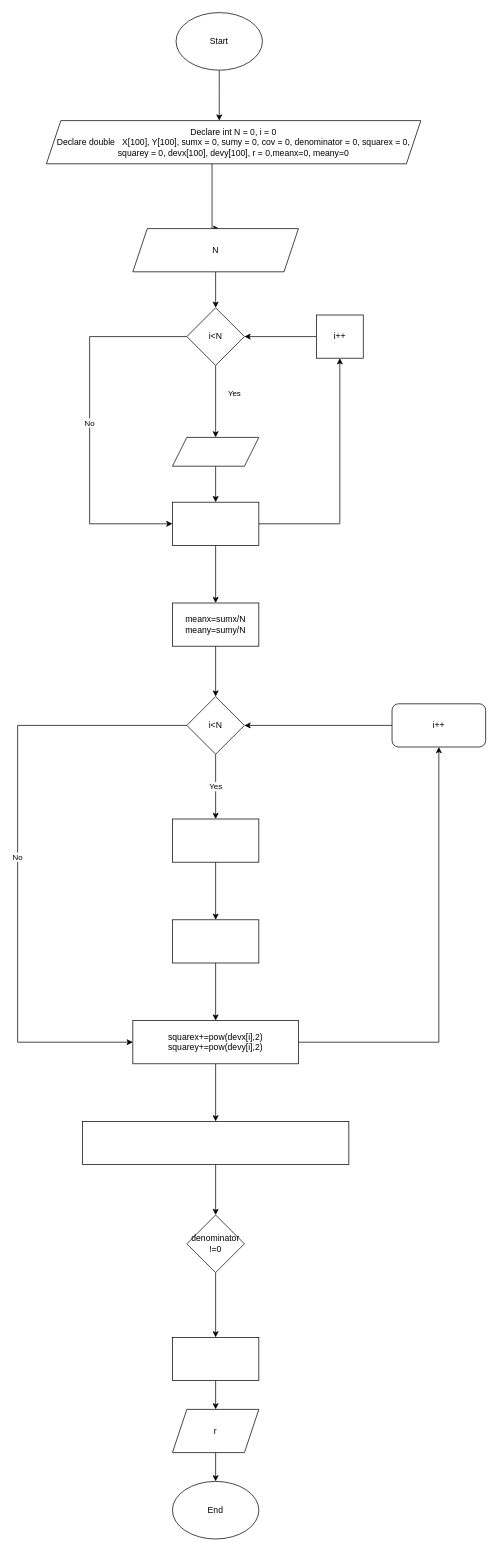
The diagram is 498 pixels wide and 1552 high, and some of its shapes have lost their labels. Each missing label, with the centre of its shape:
"cov+= devx[i] *devy[i]" belongs at pixel 215 941.
"denominator=sqrt(squarex*squarey)" belongs at pixel 215 1143.
"devx[i]=X[i]-meanx devy[i]=Y[i]-meany" belongs at pixel 215 840.
"r= cov/ denominator" belongs at pixel 215 1359.
"sumX+=x[i]/N sumY+=y[i]/N" belongs at pixel 215 523.
"x[i] y[i]" belongs at pixel 215 451.
